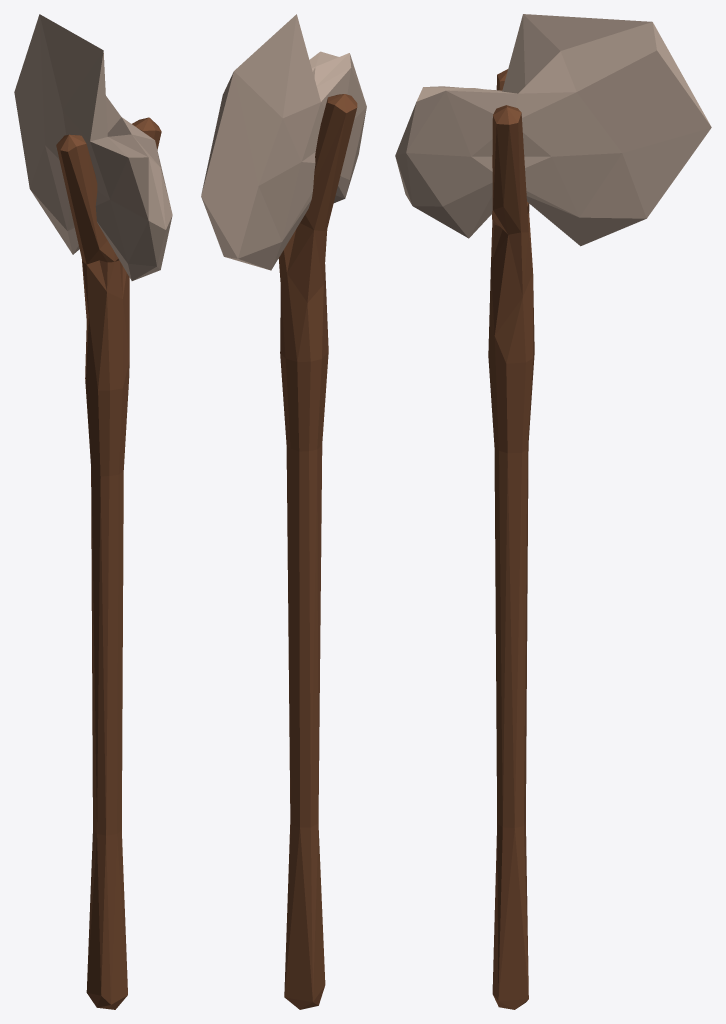
File: axe.fbx
3 views of the same model, side by side, from view 1: azimuth 30°, elevation 25°; view 2: azimuth 150°, elevation 25°; view 3: azimuth 270°, elevation 25° (orthographic). The views are drawn at different scales.
Visible parts, largest first — view 1: Icosphere; view 2: Icosphere; view 3: Icosphere.
Part boxes in pixels (x1,y1,x2,y2): Icosphere: (14,14,172,1009); Icosphere: (201,14,366,1009); Icosphere: (395,14,711,1009).
Bounding box in the file's own units: 25.97 × 239 × 68.95.
